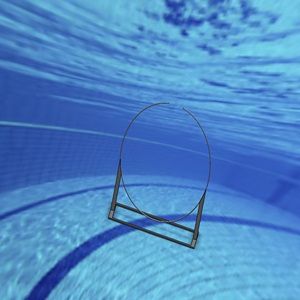circle: (108, 101, 212, 248)
